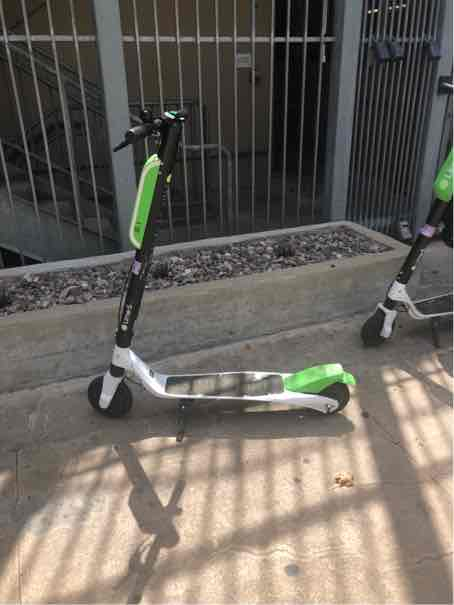scooter: (77, 82, 357, 438)
